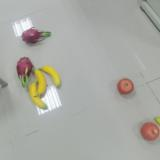apple: (141, 122, 160, 141), (117, 78, 134, 94)
pitaya: (21, 27, 52, 44), (16, 57, 33, 87)
